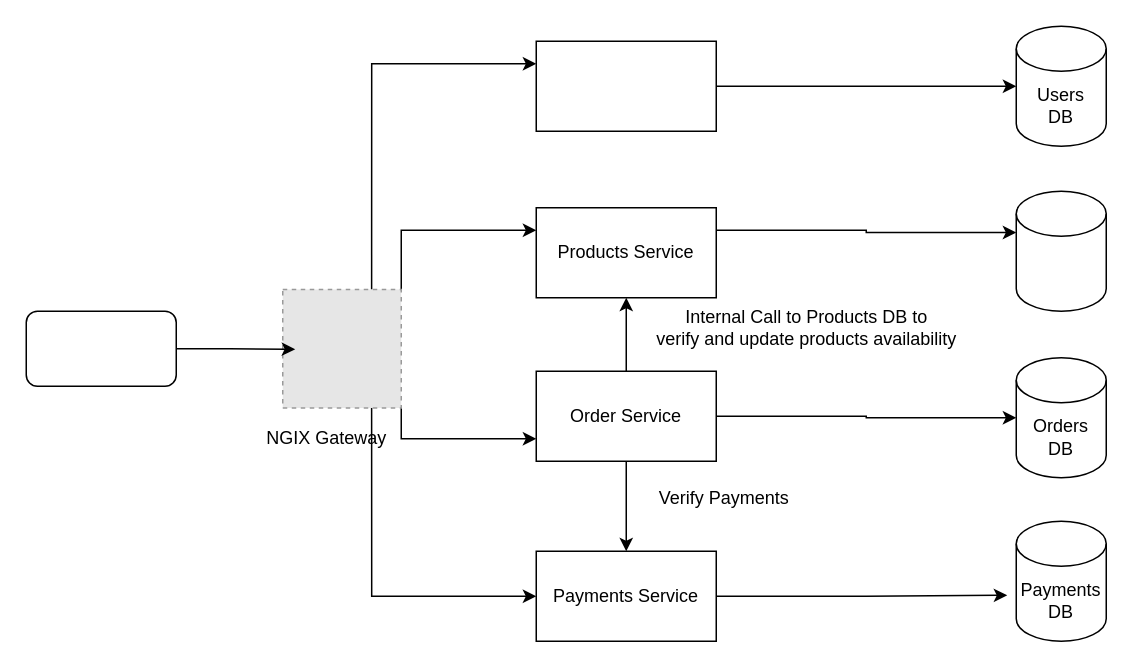
This 1133x668 diagram has some shape labels left out. Grey dashed boxes stand in for pictures. Each missing label, with the box of its shape:
Frontend/App: (25, 310, 176, 386)
Products DB: (1015, 190, 1106, 311)
User Service: (535, 40, 716, 131)
